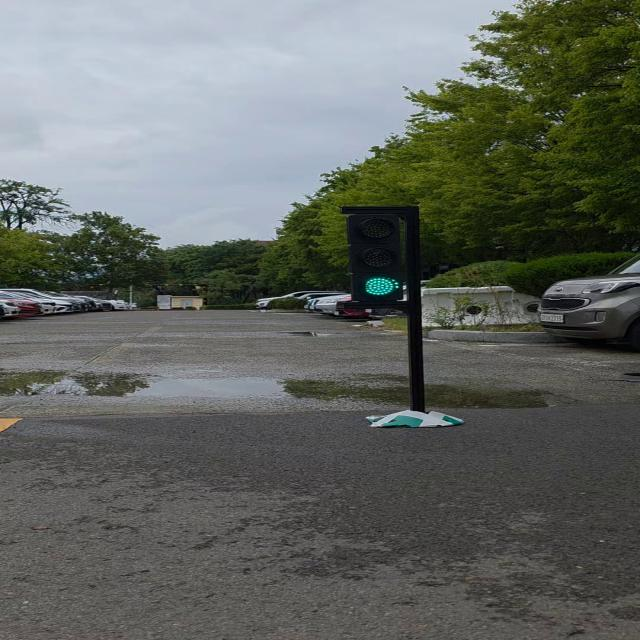green: (348, 208, 415, 308)
